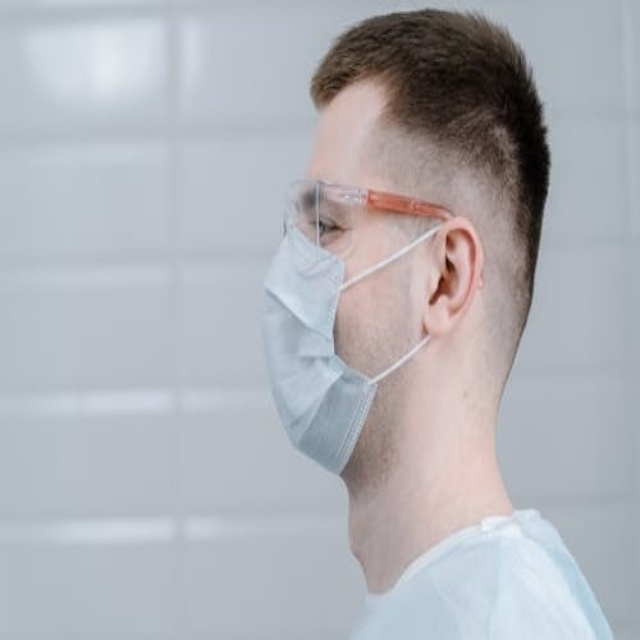Gafas: (280, 178, 459, 260)
Mascara: (262, 194, 447, 473)
